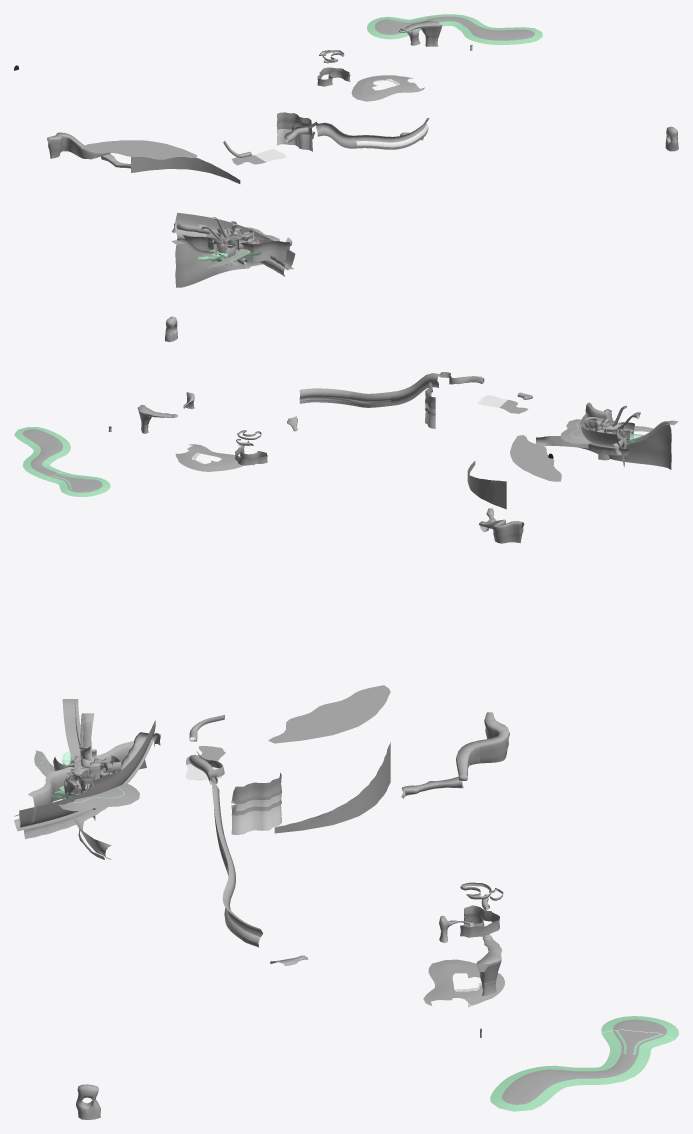
The picture shows the model from 3 angles, top to bottom: view 1: azimuth 30°, elevation 25°; view 2: azimuth 150°, elevation 25°; view 3: azimuth 270°, elevation 25°; orthographic projection. The views are drawn at different scales.
Parts seen in each view (by area): view 1: object_B35CB8, object_B749D8, object_B0F618, object_B744B0, object_B0C214, object_B2F9A4, object_B6DBAC, object_B36C84, object_B1A620, object_B34850, object_B1244C, object_B56920 (+7 smaller); view 2: object_B35CB8, object_B749D8, object_B38E4C, object_B56920, object_B34850, object_B744B0, object_B6DBAC, object_B0F618, object_B36C84, object_B1A620, object_B0C214, object_B13B34 (+7 smaller); view 3: object_B749D8, object_B0F618, object_B744B0, object_B1C190, object_B616C4, object_B13B34, object_B10D90, object_B3362C, object_B08C50, object_B6DBAC, object_B1244C, object_B0C214 (+6 smaller).
Part boxes in pixels (x1=…): object_B35CB8: x1=175, y1=238, x2=213, y2=287; object_B749D8: x1=81, y1=140, x2=145, y2=156; object_B0F618: x1=495, y1=28, x2=542, y2=44; object_B744B0: x1=143, y1=140, x2=197, y2=159; object_B0C214: x1=351, y1=76, x2=394, y2=101; object_B2F9A4: x1=253, y1=241, x2=289, y2=261; object_B6DBAC: x1=47, y1=132, x2=79, y2=158; object_B36C84: x1=355, y1=135, x2=399, y2=149; object_B1A620: x1=175, y1=212, x2=223, y2=239; object_B34850: x1=316, y1=122, x2=357, y2=148; object_B1244C: x1=460, y1=24, x2=498, y2=44; object_B56920: x1=131, y1=157, x2=173, y2=172; object_B35CB8: x1=627, y1=421, x2=671, y2=469; object_B749D8: x1=513, y1=454, x2=561, y2=481; object_B38E4C: x1=299, y1=388, x2=351, y2=405; object_B56920: x1=477, y1=478, x2=506, y2=509; object_B34850: x1=390, y1=373, x2=439, y2=405; object_B744B0: x1=510, y1=435, x2=547, y2=461; object_B6DBAC: x1=492, y1=521, x2=524, y2=543; object_B0F618: x1=14, y1=427, x2=65, y2=446; object_B36C84: x1=349, y1=391, x2=391, y2=407; object_B1A620: x1=588, y1=430, x2=628, y2=456; object_B0C214: x1=192, y1=452, x2=243, y2=471; object_B13B34: x1=23, y1=456, x2=61, y2=479; object_B749D8: x1=311, y1=685, x2=390, y2=726; object_B0F618: x1=491, y1=1077, x2=557, y2=1111; object_B744B0: x1=268, y1=712, x2=358, y2=743; object_B1C190: x1=19, y1=794, x2=79, y2=839; object_B616C4: x1=231, y1=792, x2=281, y2=834; object_B13B34: x1=584, y1=1054, x2=648, y2=1084; object_B10D90: x1=602, y1=1030, x2=674, y2=1056; object_B3362C: x1=231, y1=773, x2=281, y2=815; object_B08C50: x1=58, y1=783, x2=139, y2=811; object_B6DBAC: x1=476, y1=712, x2=509, y2=763; object_B1244C: x1=512, y1=1066, x2=584, y2=1090; object_B0C214: x1=428, y1=959, x2=504, y2=985.
Size of the model in its own units: 6539 by 1459 by 4712.
